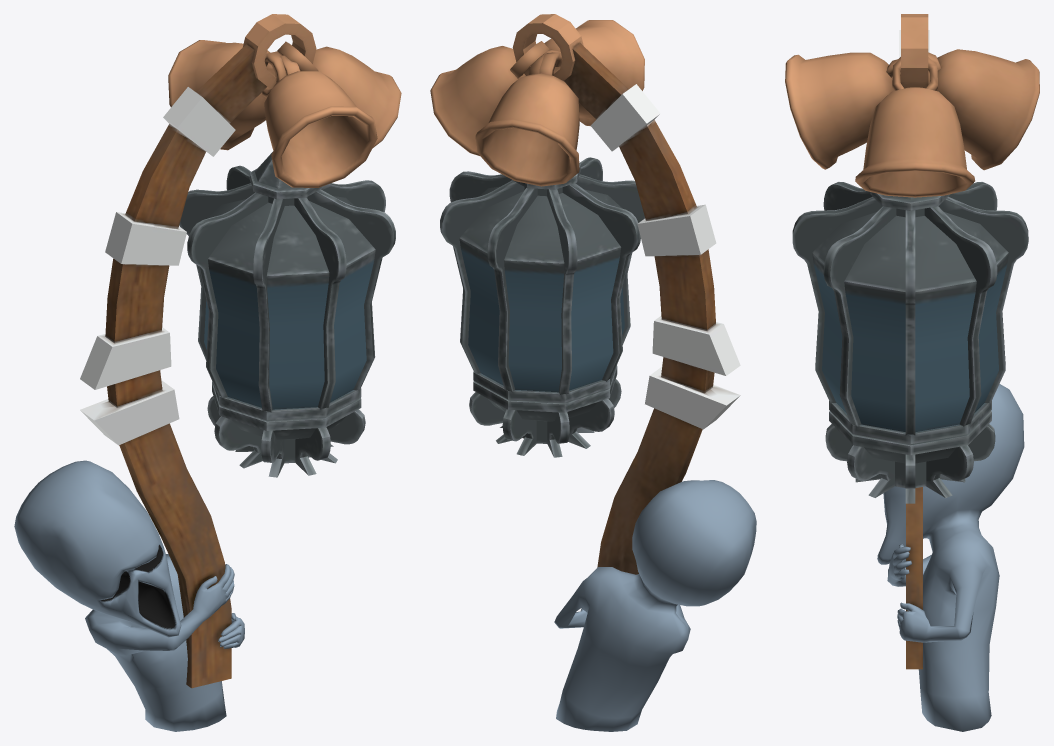
File: Lamp.fbx
3 views of the same model, side by side, from view 1: azimuth 30°, elevation 25°; view 2: azimuth 150°, elevation 25°; view 3: azimuth 270°, elevation 25° (orthographic). The views are drawn at different scales.
Visible parts, largest first — view 1: Lamp, Stand, Ghost, Bell; view 2: Lamp, Stand, Ghost, Bell; view 3: Lamp, Bell, Ghost, Stand.
Part boxes in pixels (<box>): Lamp: <box>179,152,395,477</box>; Stand: <box>80,14,316,688</box>; Ghost: <box>14,460,244,731</box>; Bell: <box>168,40,401,187</box>; Lamp: <box>440,157,644,457</box>; Stand: <box>512,14,740,574</box>; Ghost: <box>554,480,756,731</box>; Bell: <box>430,20,644,186</box>; Lamp: <box>792,182,1028,503</box>; Bell: <box>785,49,1039,197</box>; Ghost: <box>877,384,1024,731</box>; Stand: <box>899,14,929,669</box>.
Bounding box in the file's own units: 60.18 × 116 × 36.71.
Materials: 1 (1 with a texture image).
